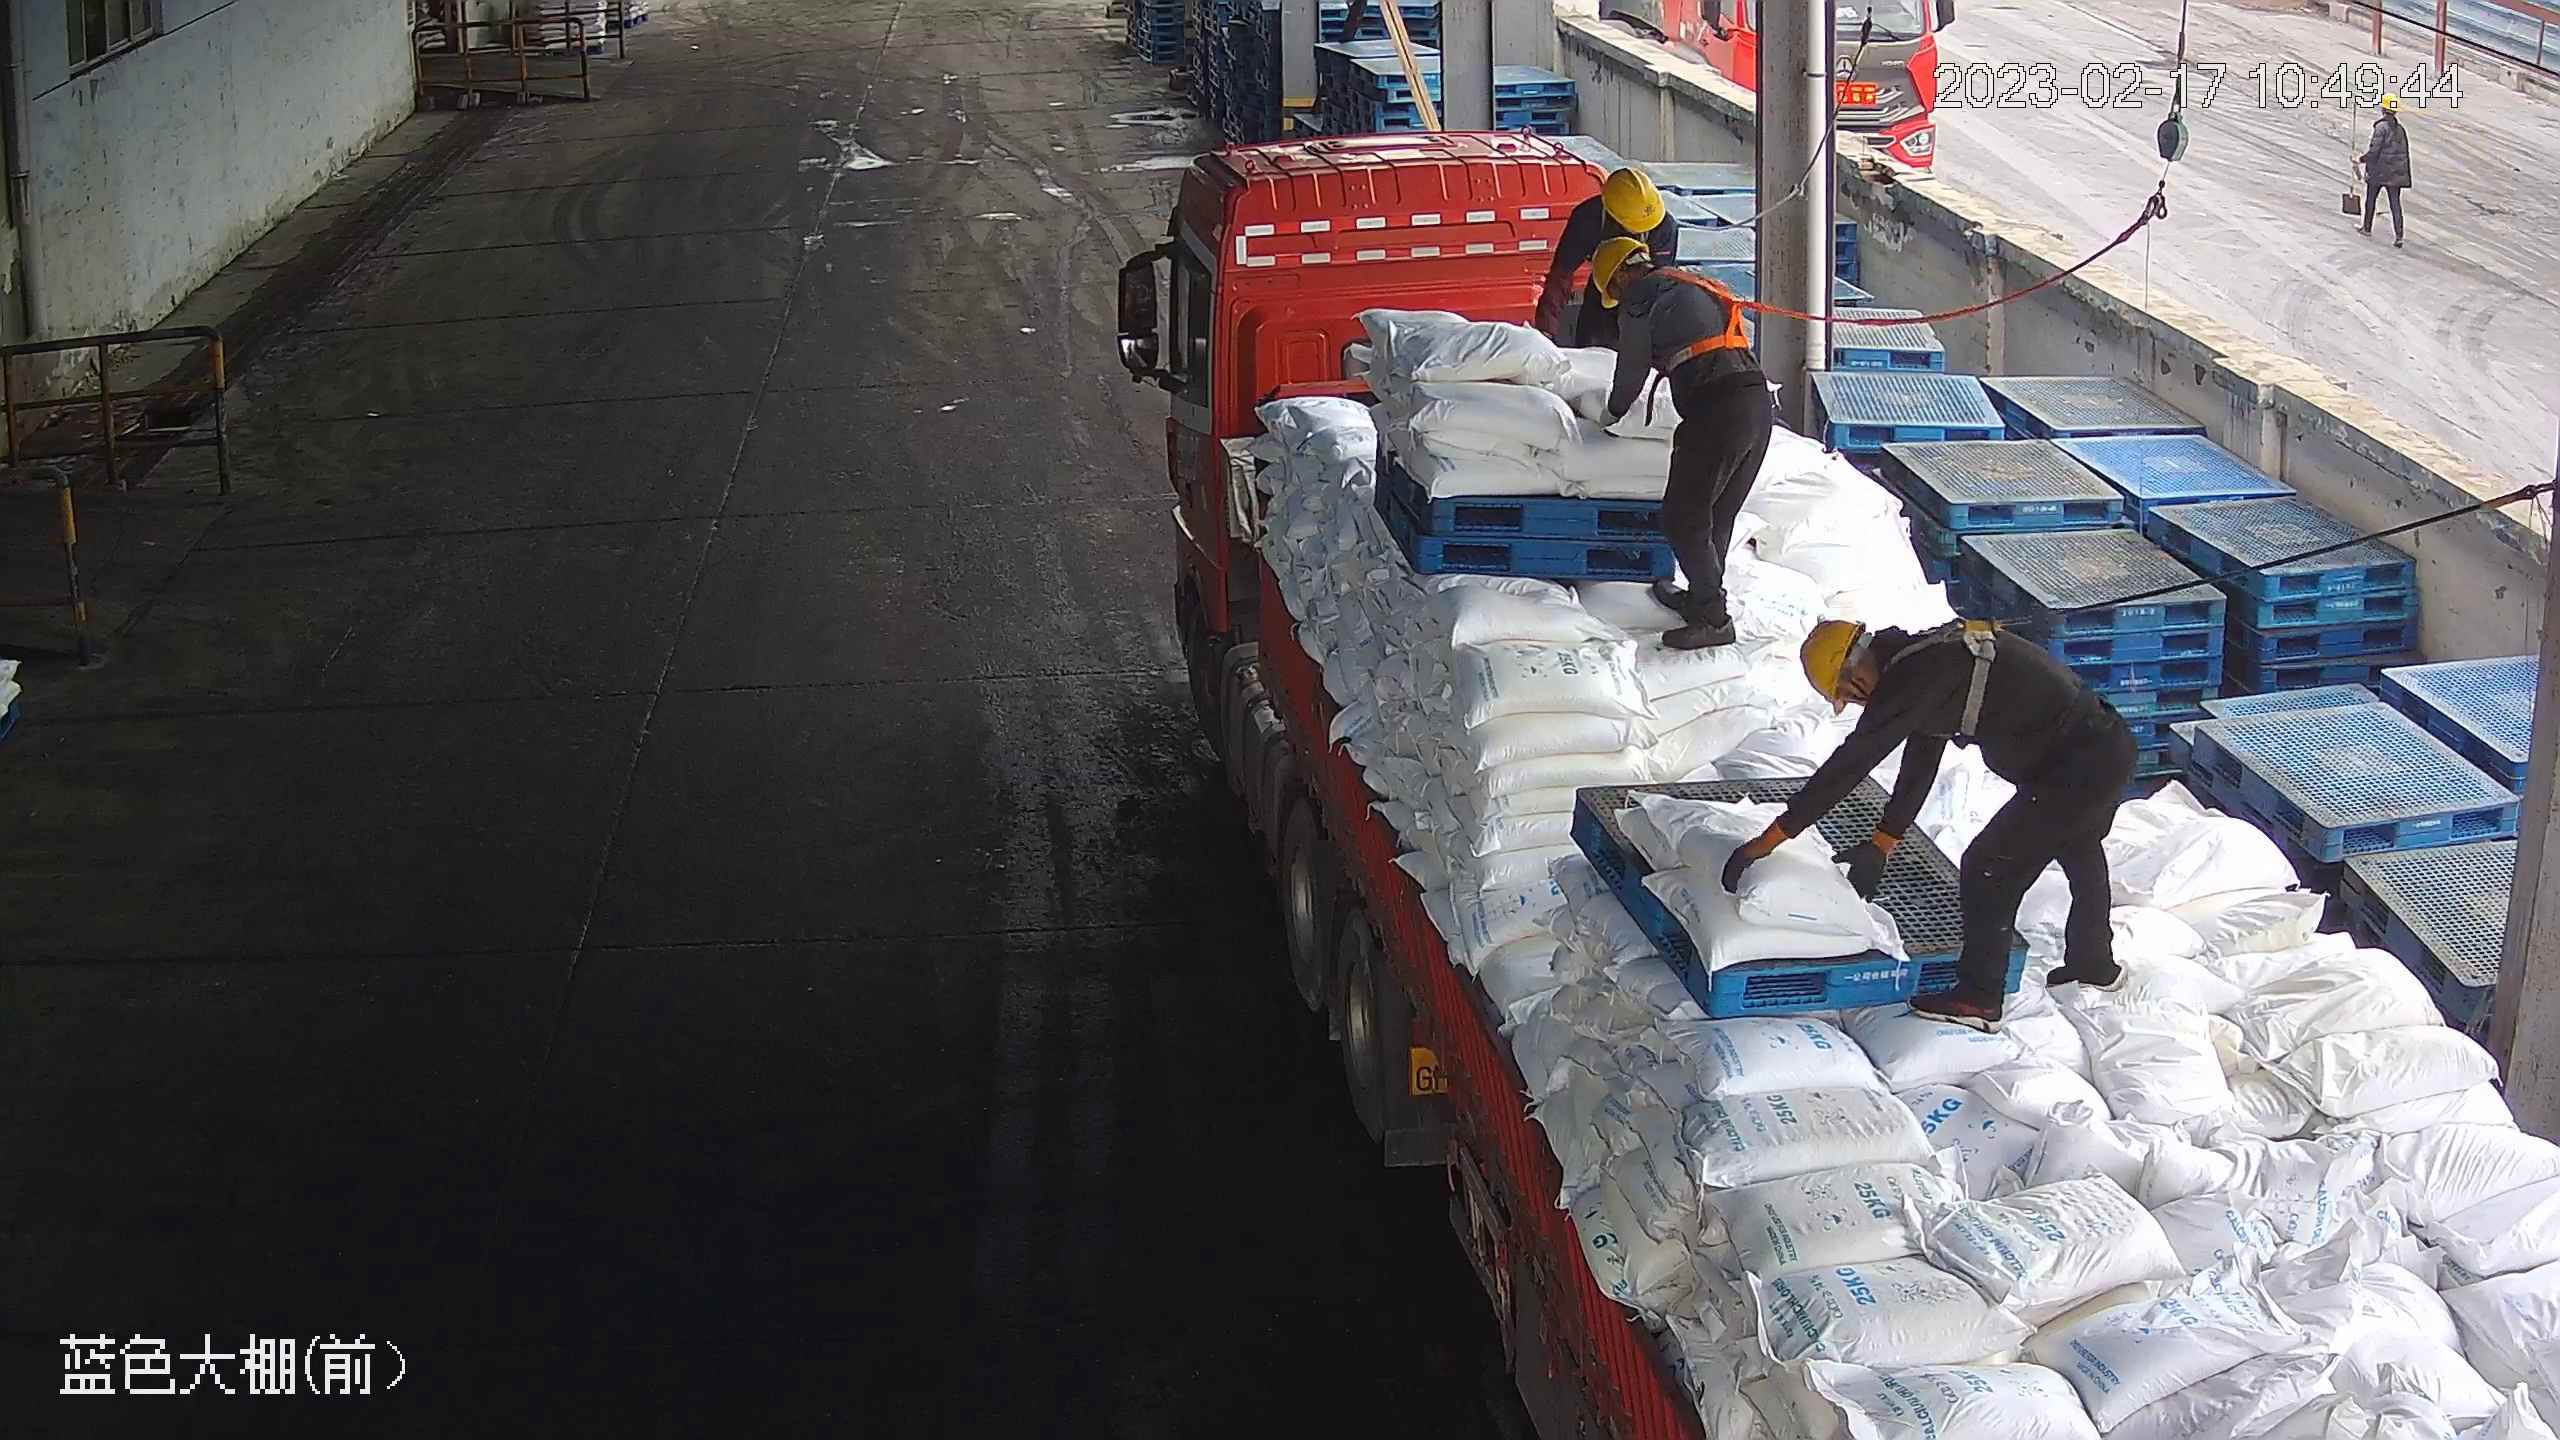belt: (1882, 613, 2034, 740), (1591, 237, 1739, 337), (1648, 259, 1755, 370)
head: (1795, 613, 1965, 732), (1588, 237, 1731, 329), (2367, 90, 2413, 146)
helmet: (1587, 237, 1730, 332), (1795, 616, 1864, 715), (1586, 237, 1648, 309), (1596, 165, 1664, 231), (2367, 90, 2412, 145), (2379, 91, 2401, 110)
people: (1716, 610, 2140, 1026), (1588, 231, 1775, 654), (2359, 90, 2414, 246)
truck: (1147, 136, 2560, 1440)
